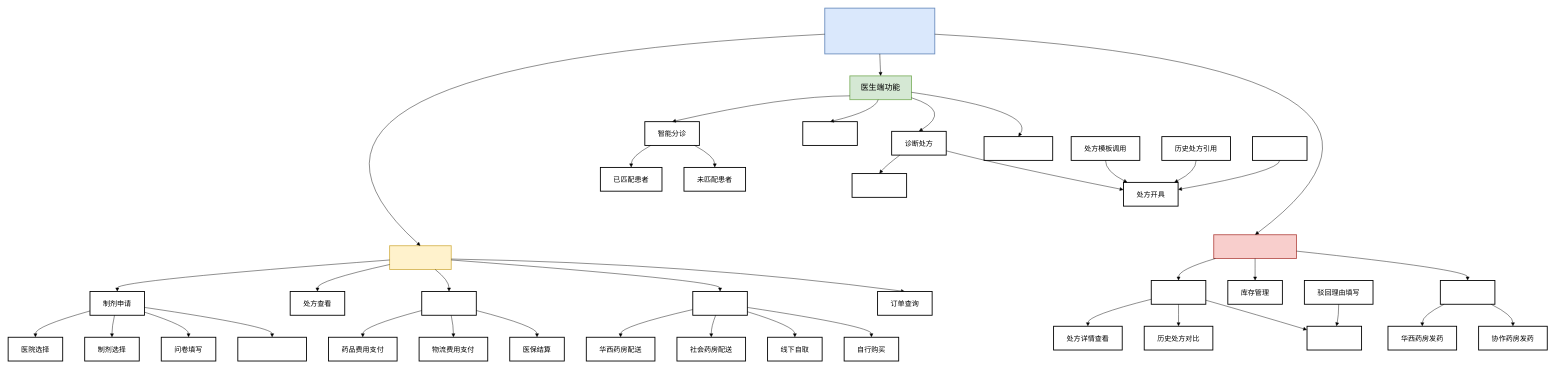
Image size: 1555x369. Some labels were removed from this diagram. The shapes that lost their labels are listed below. From the top down, each one's centre as x and y in pixels, then its label:
At point (879, 30): "华医通制剂门诊模块".
At point (830, 133): "接诊管理".
At point (1018, 148): "历史病历调阅".
At point (1279, 148): "药品搜索".
At point (879, 185): "诊断录入".
At point (420, 257): "患者端功能".
At point (1255, 246): "药剂科管理端功能".
At point (449, 303): "缴费管理".
At point (720, 303): "取药配送".
At point (1178, 292): "处方审核".
At point (1467, 292): "发药管理".
At point (272, 349): "病情资料提交".
At point (1334, 338): "审核判定".
